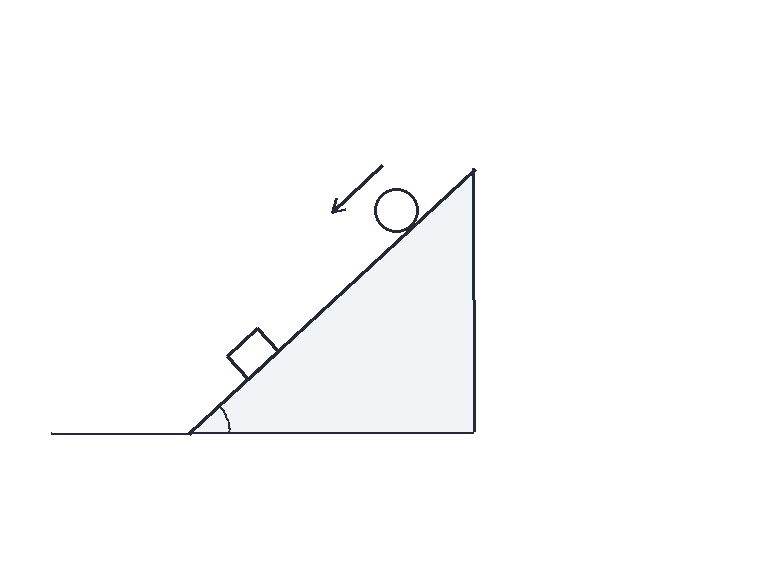ball: (372, 186, 420, 234)
block: (225, 326, 280, 381)
ramp: (188, 166, 476, 435)
